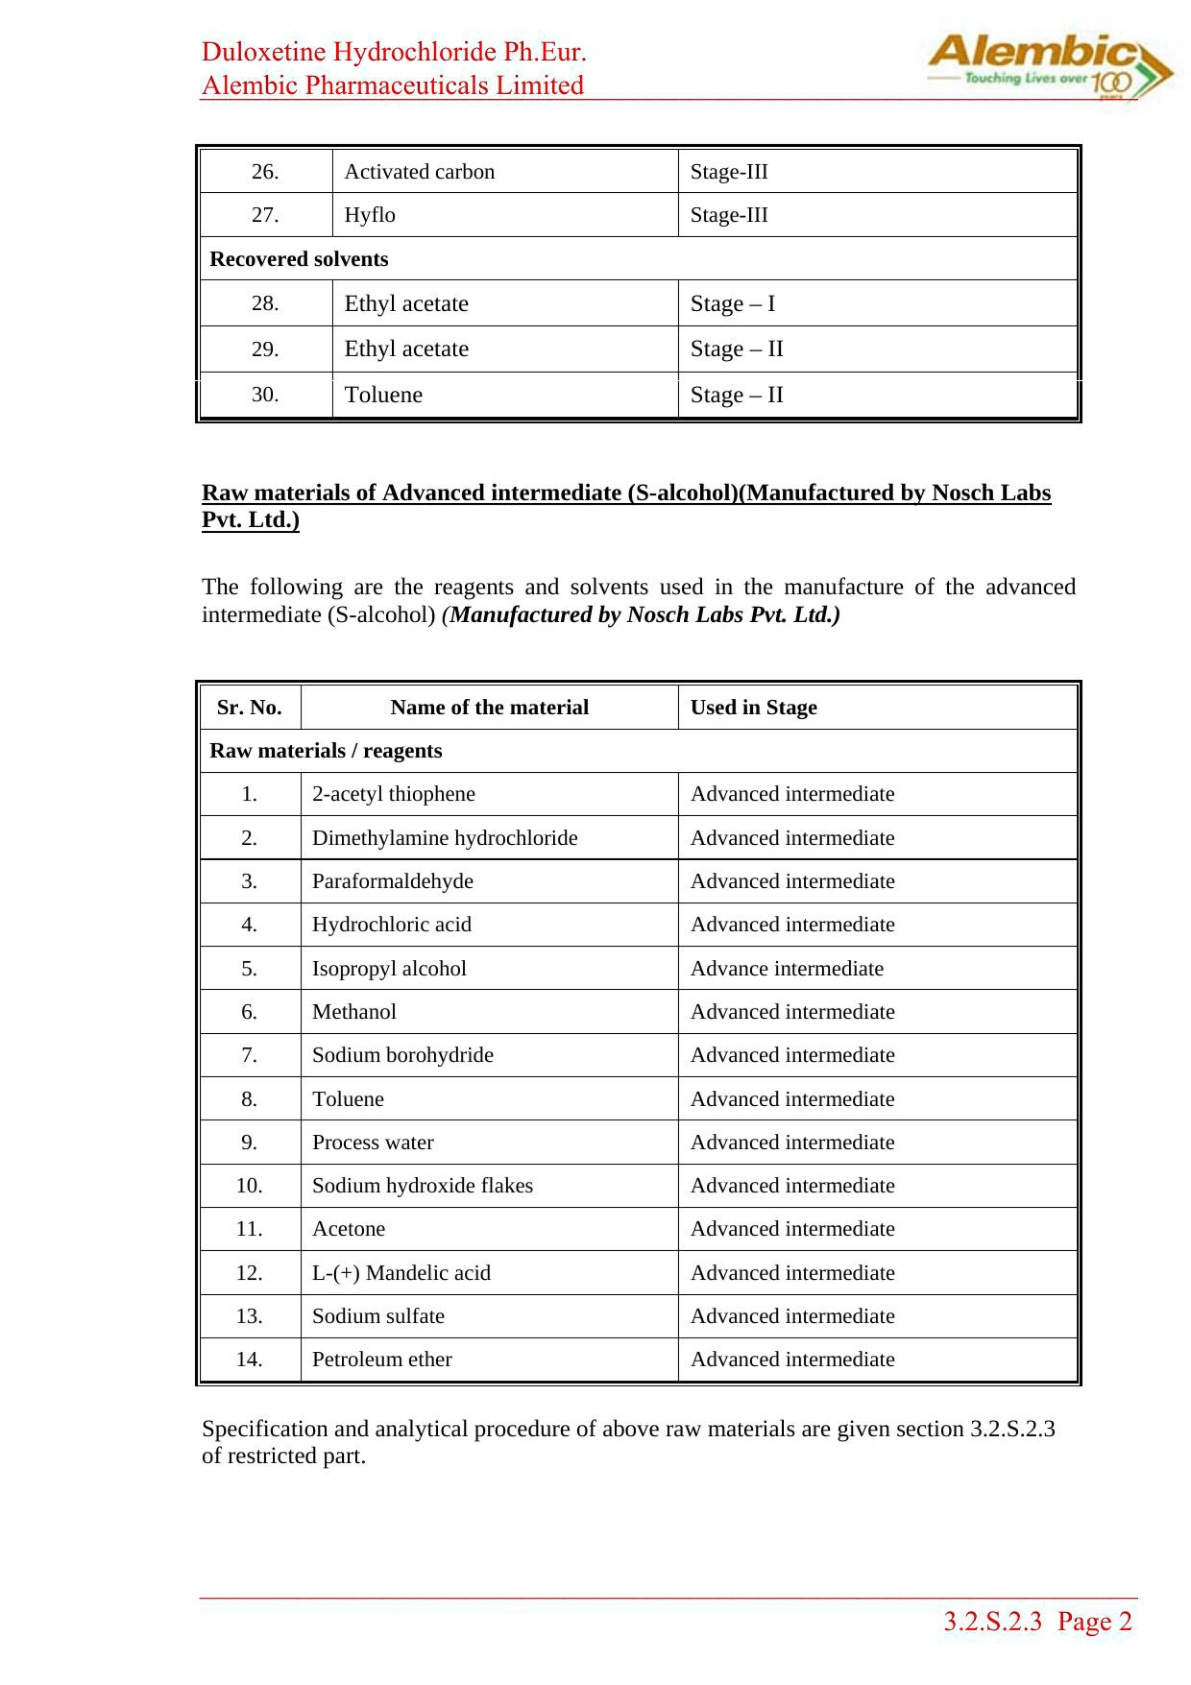merged_cells: (195, 679, 1083, 1387), (195, 144, 1083, 425)
